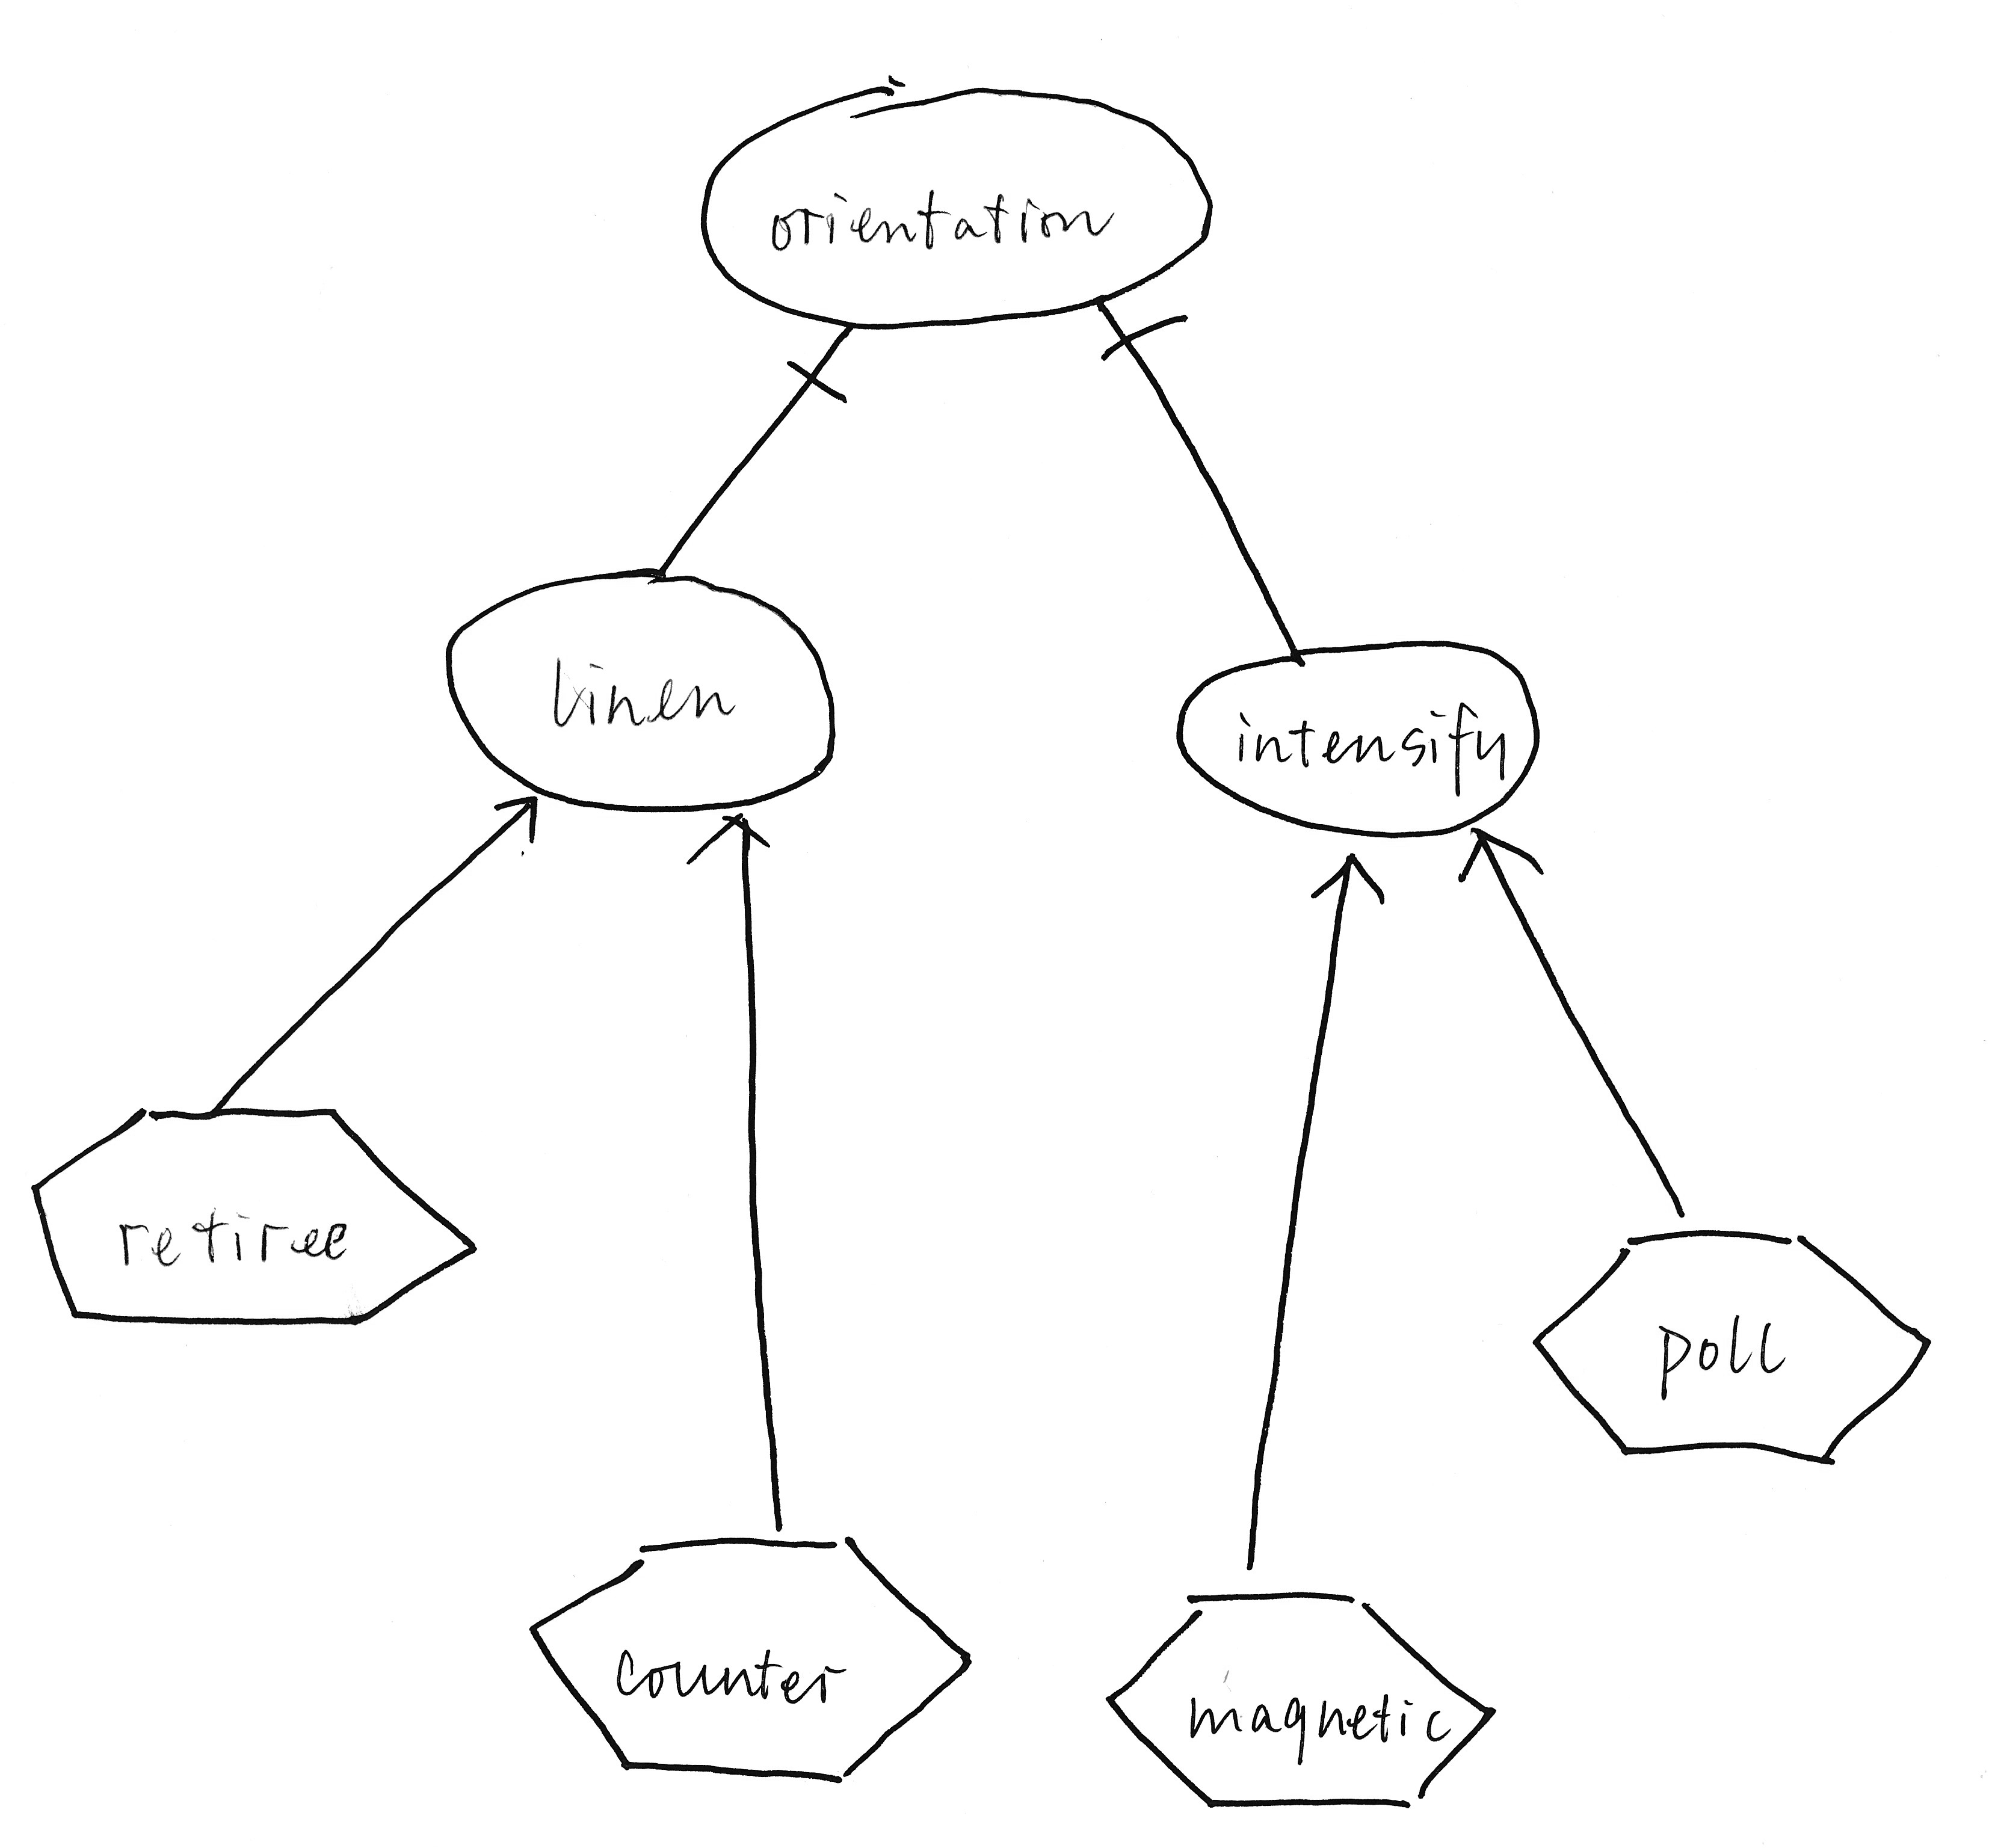and: (1080, 304, 1206, 382), (771, 328, 876, 417)
arrow: (1447, 818, 1562, 896), (672, 806, 797, 875), (1301, 846, 1398, 922), (472, 780, 558, 856)
goal: (690, 66, 1225, 346), (427, 547, 853, 827), (1159, 622, 1558, 851)
task: (514, 1509, 987, 1806), (17, 1091, 495, 1339), (1522, 1209, 1947, 1475), (1093, 1582, 1515, 1824)
